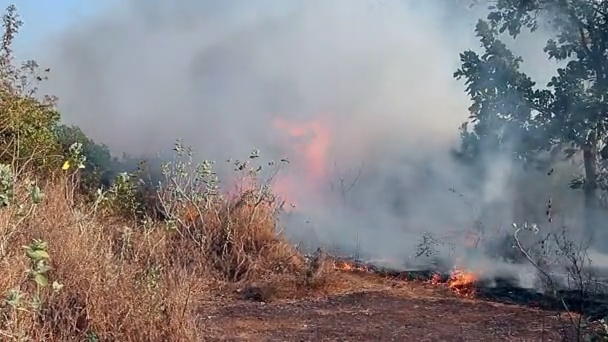fire: (450, 269, 473, 285), (62, 161, 68, 169)
